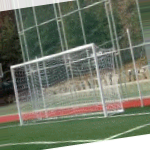goals: (10, 42, 127, 125)
